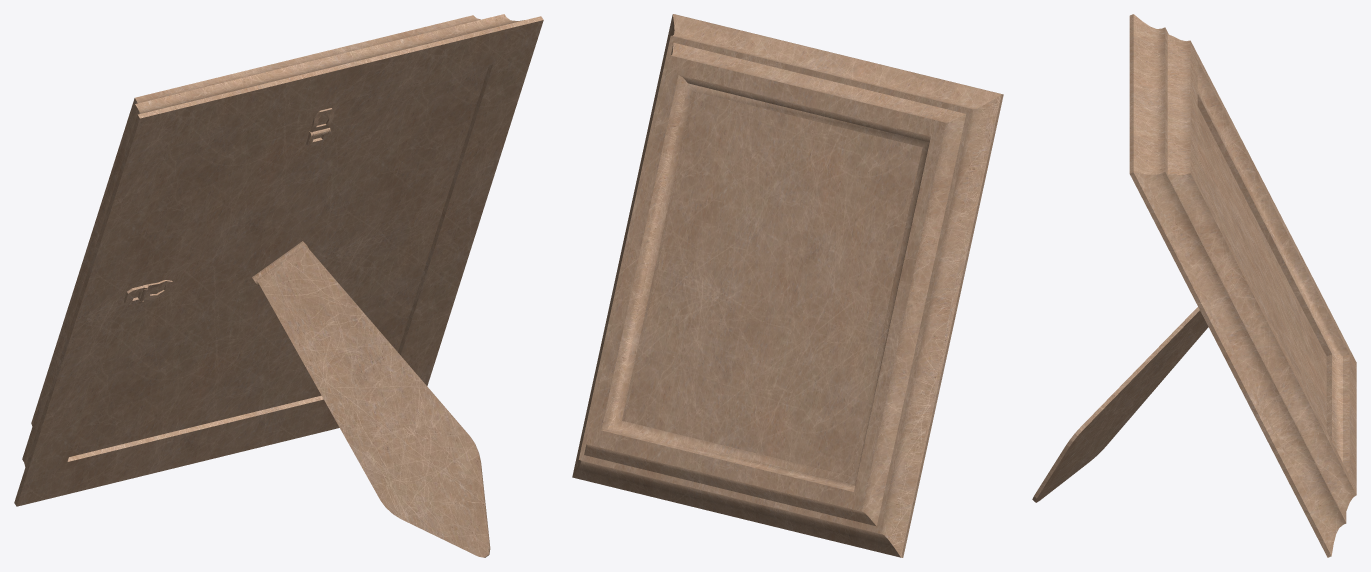
File: picture_frame.glb
3 views of the same model, side by side, from view 1: azimuth 30°, elevation 25°; view 2: azimuth 150°, elevation 25°; view 3: azimuth 270°, elevation 25° (orthographic). The views are drawn at different scales.
Visible parts, largest first — view 1: PictureFrame_Material_0; view 2: PictureFrame_Material_0; view 3: PictureFrame_Material_0.
Part boxes in pixels (x1,y1,x2,y2): PictureFrame_Material_0: [14, 14, 543, 557]; PictureFrame_Material_0: [572, 14, 1003, 557]; PictureFrame_Material_0: [1032, 14, 1356, 557].
Bounding box in the file's own units: 1.6 × 1.82 × 1.39.
Materials: 1 (1 with a texture image).
